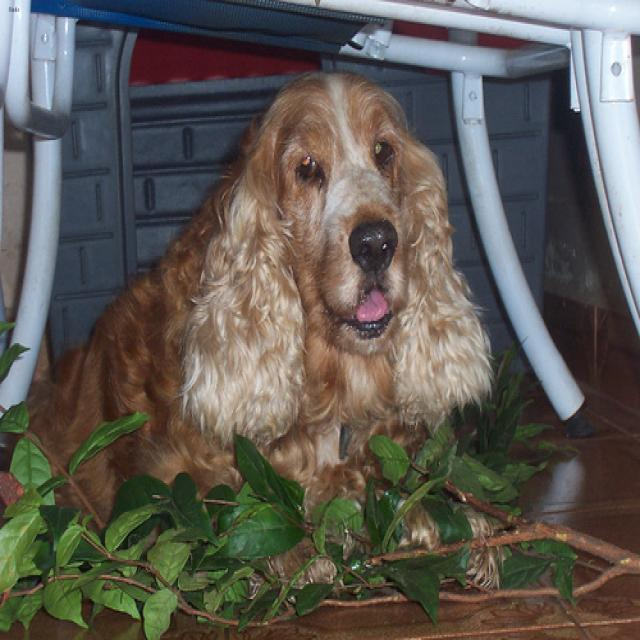dog-english_cocker_spaniel: (14, 63, 504, 599)
